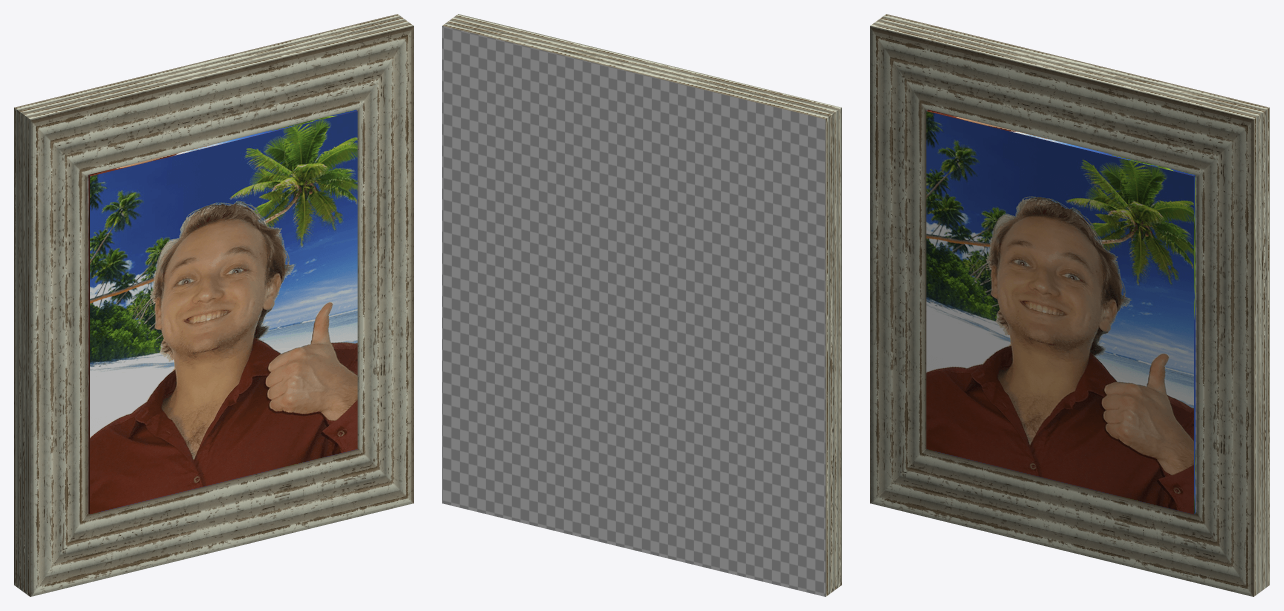
Rendered from bartpicture.obj.
3 renders of one model, left to right at view 1: azimuth 30°, elevation 25°; view 2: azimuth 150°, elevation 25°; view 3: azimuth 330°, elevation 25°, orthographic.
Parts seen in each view (by area): view 1: Cube, Cube.001; view 2: Cube; view 3: Cube, Cube.001.
Boxes of the visible parts, x1,y1,x2,y2 form: Cube: (14,14,413,596); Cube.001: (88,109,357,514); Cube: (442,14,841,596); Cube: (870,14,1269,596); Cube.001: (926,109,1195,514).
Bounding box in the file's own units: 0.5741 × 0.6832 × 0.0467.
